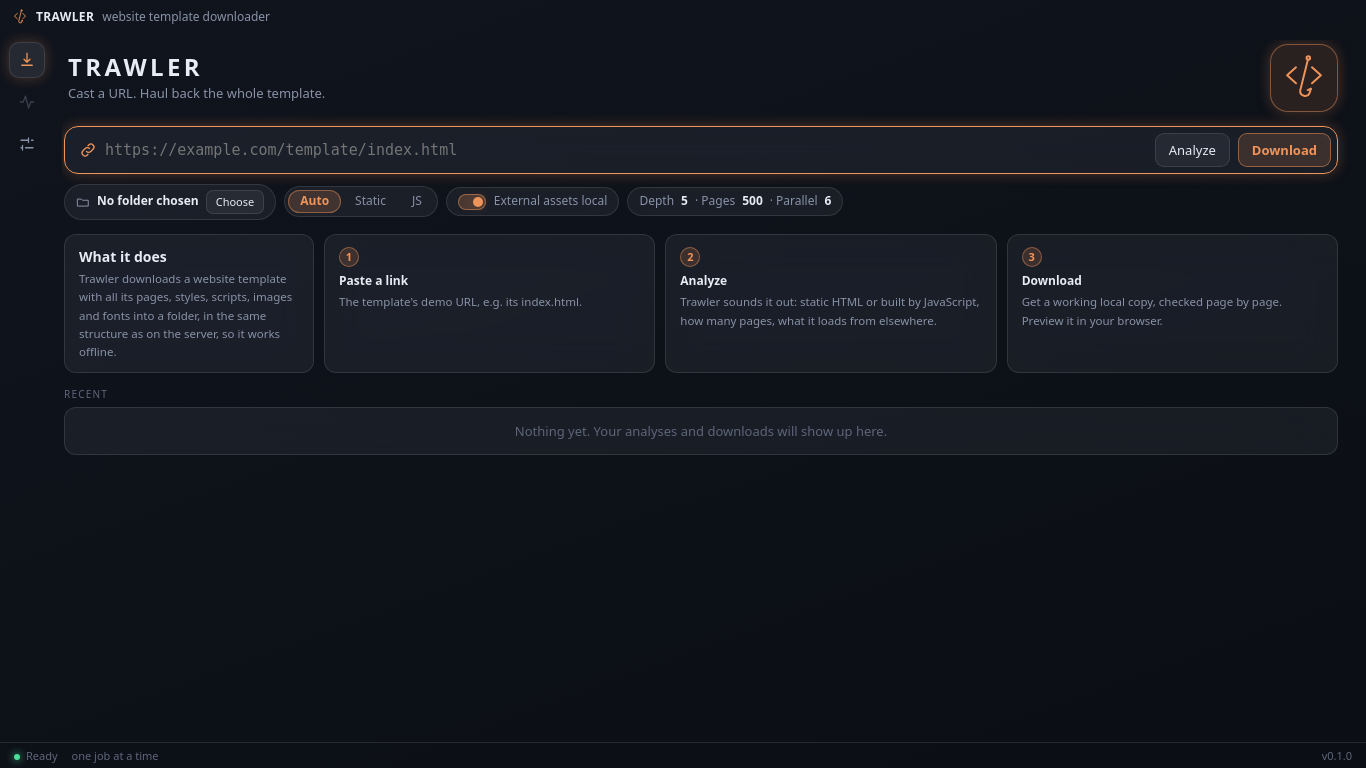
Test: Progress screen › follows a running job and shows how it ended
In the field named "Template URL": coordinates (626, 150) [105,133,1147,167], type "example.com/template/"
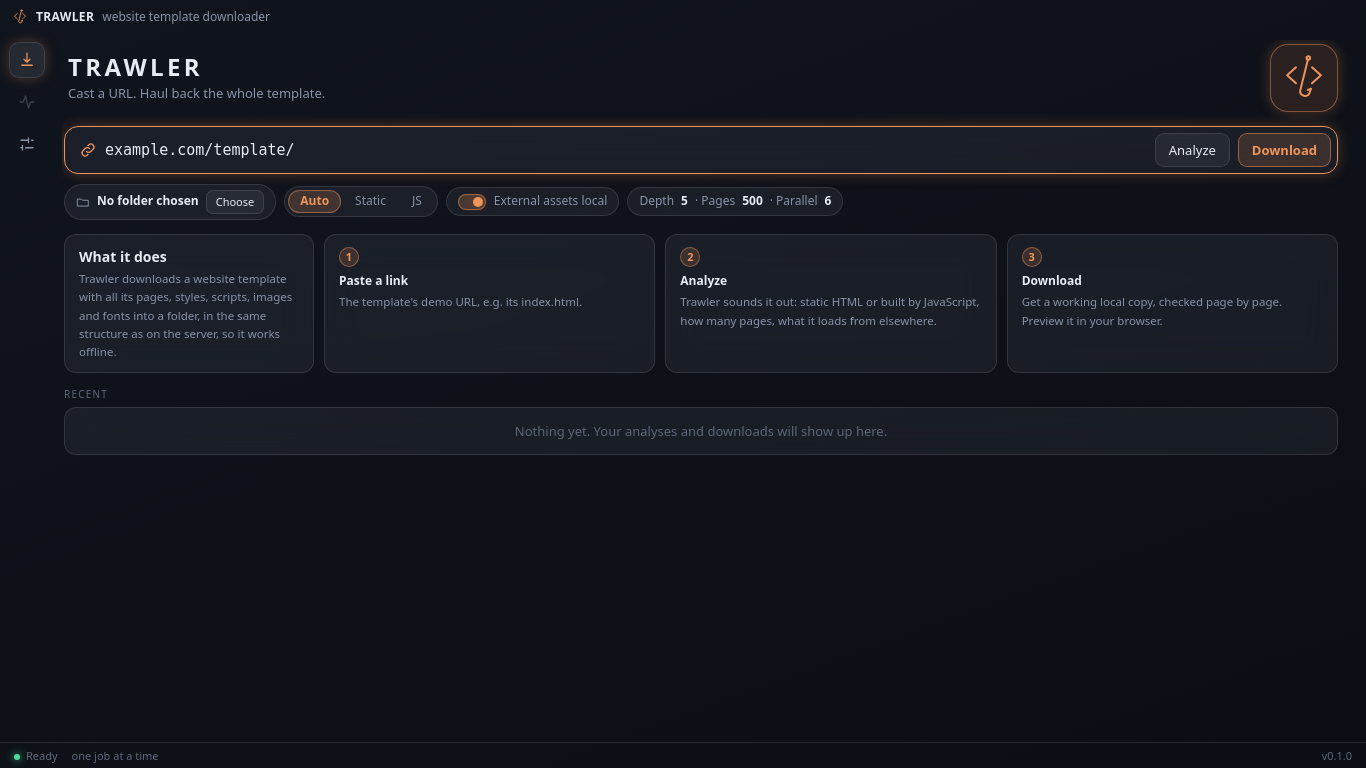
Click the button "Analyze": coordinates (1192, 150) [1155,133,1230,167]
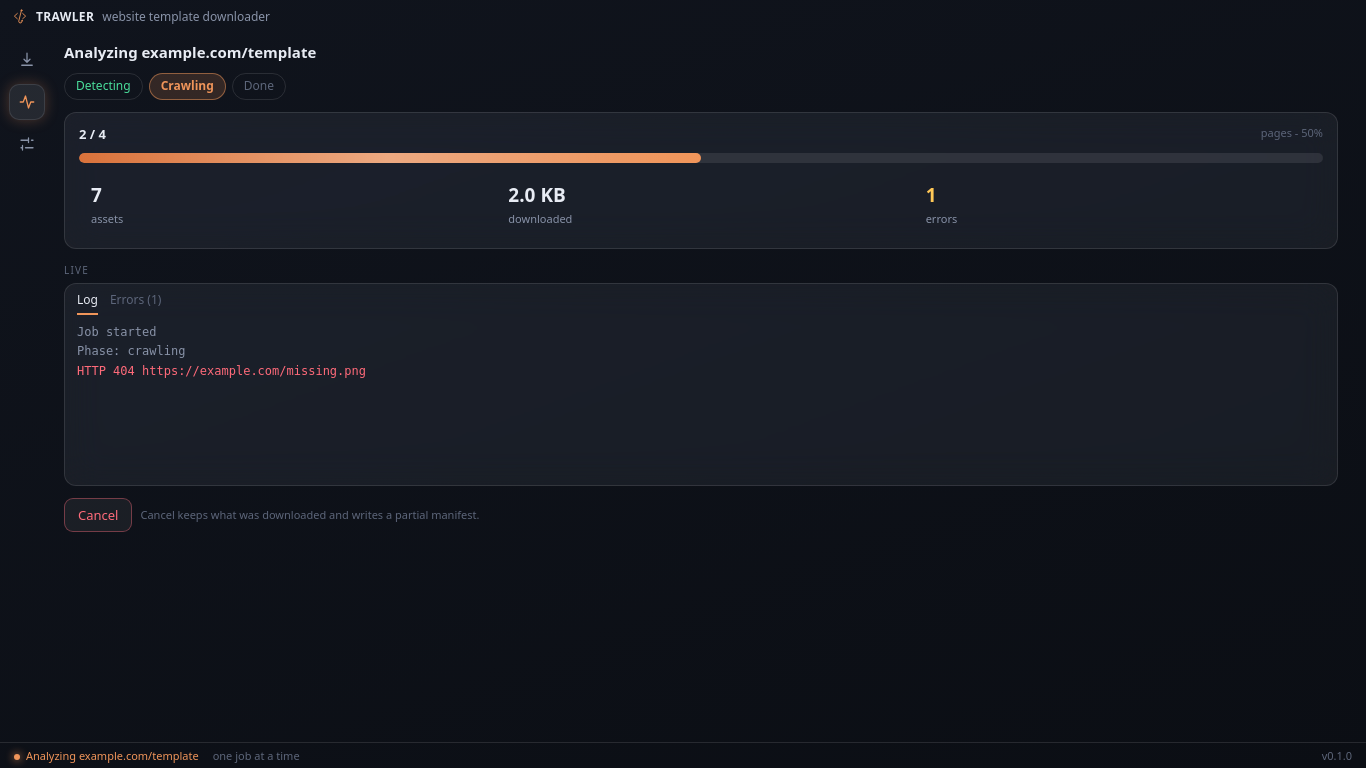
Check: the button "Cancel" is shown, box [64,498,132,532]
Check: the text "2 / 4" is shown, box [79,125,106,143]
Check: the text "2.0 KB" is shown, box [508,182,566,208]
Click the tab "Errors (1)": coordinates (136, 303) [110,292,161,315]
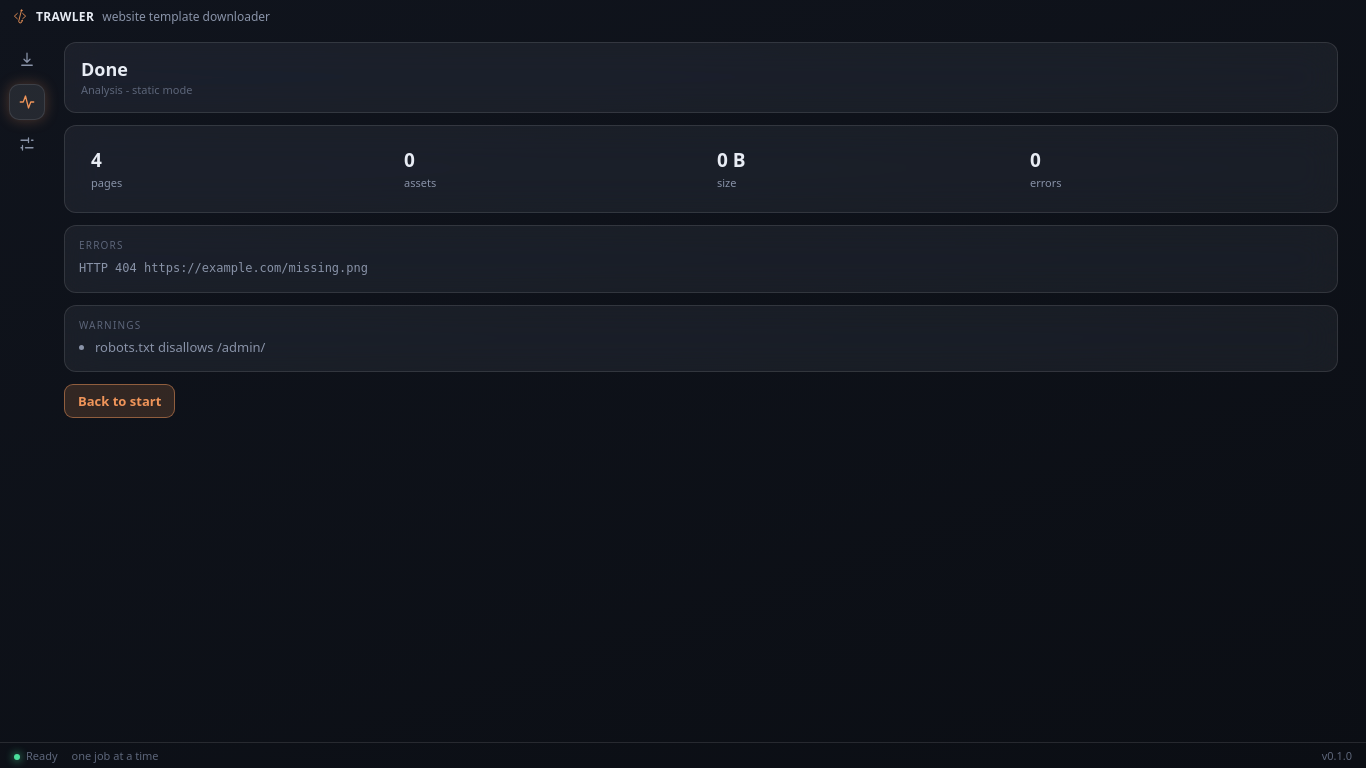
Check: the text "HTTP 404 https://example.com/missing.png" is shown, box [79,261,368,275]
Check: the heading "Done" is shown, box [81,57,128,81]
Check: the list item "robots.txt disallows /admin/" is shown, box [95,338,265,356]
Click the button "Back to start": coordinates (120, 401) [64,384,175,418]
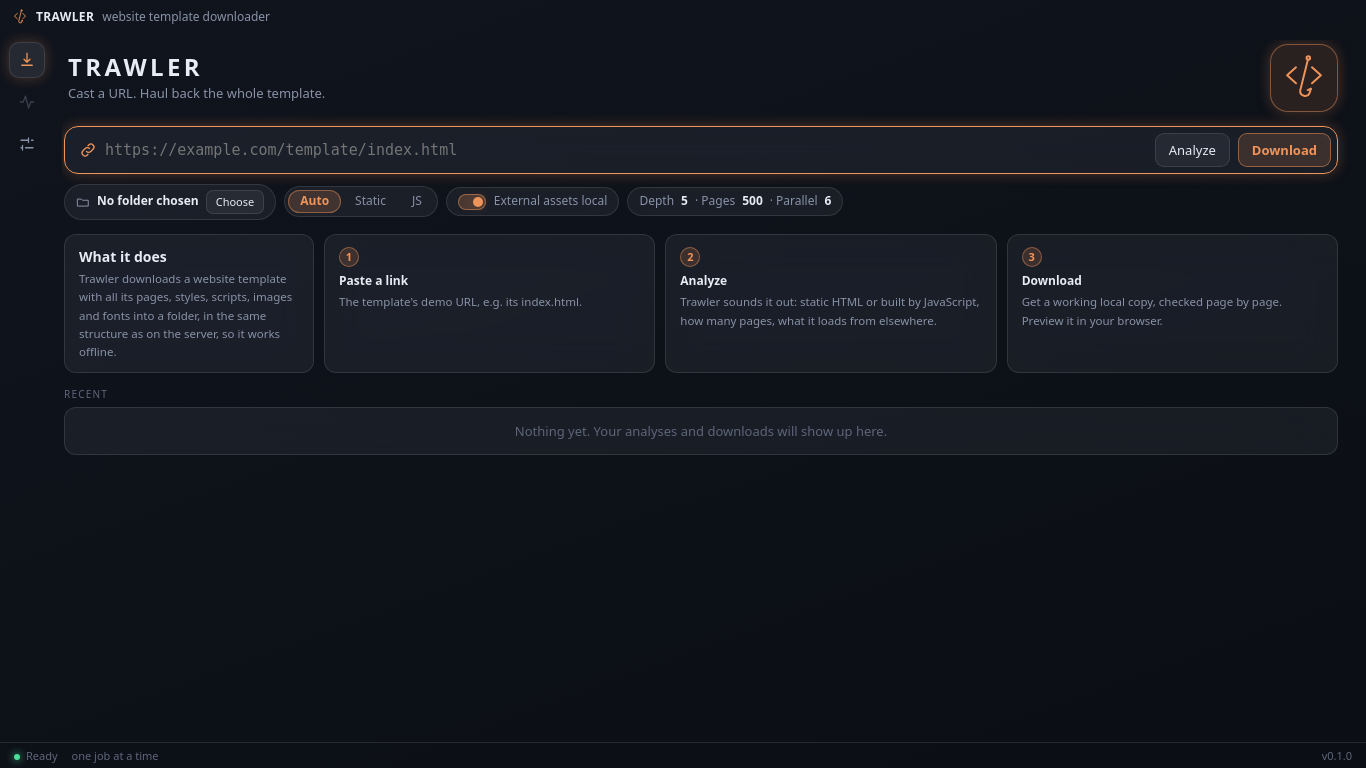
Check: the button "Analyze" is shown, box [1155,133,1230,167]
